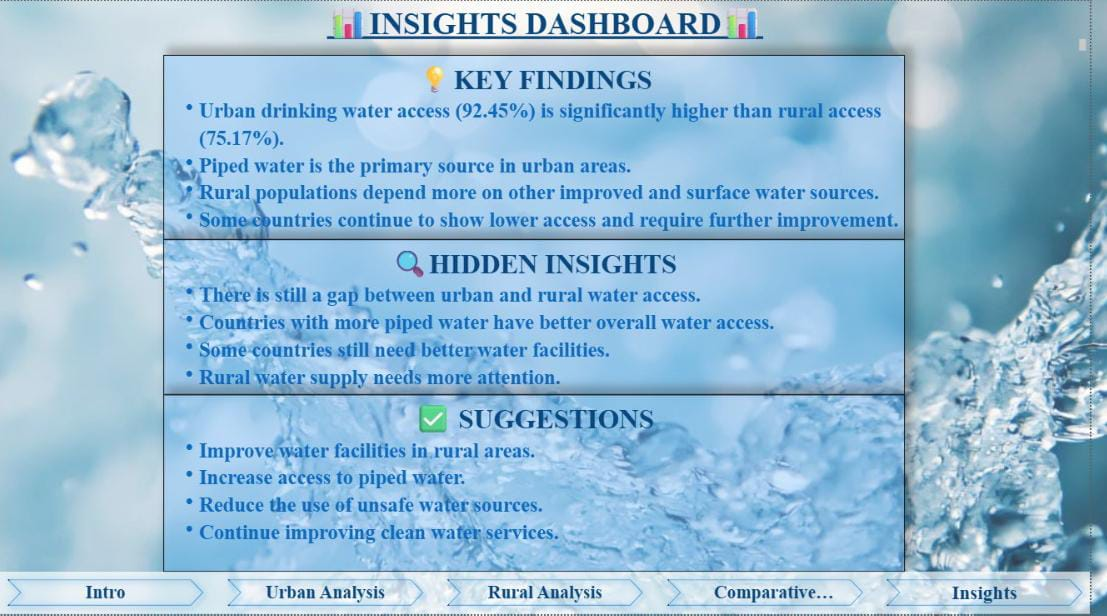

What the dashboard file says about the page in this screenshot:
{"tool":"powerbi","page":{"name":"Insights","canvas":[1280,720],"ordinal":4},"visuals":[{"type":"textbox","title":"📊INSIGHTS DASHBOARD📊","box":[0,0,1280.3,63.1],"z":0},{"type":"textbox","box":[192,63.6,870.7,216.4],"z":1000},{"type":"textbox","box":[192,280,870.7,182.2],"z":2000},{"type":"textbox","box":[192,462.2,870.7,207.9],"z":3000},{"type":"pageNavigator","box":[0,669.8,1280.3,49.9],"z":4000}]}

Visuals, with their boxes in screenshot pixels (x1, y1, x2, y2), scaled from the page's 1280x720 canvas onto the 1107x616 screenshot:
"📊INSIGHTS DASHBOARD📊" textbox: box=[0, 0, 1106, 54]
textbox: box=[166, 54, 919, 240]
textbox: box=[166, 240, 919, 395]
textbox: box=[166, 395, 919, 573]
pageNavigator: box=[0, 573, 1106, 615]
